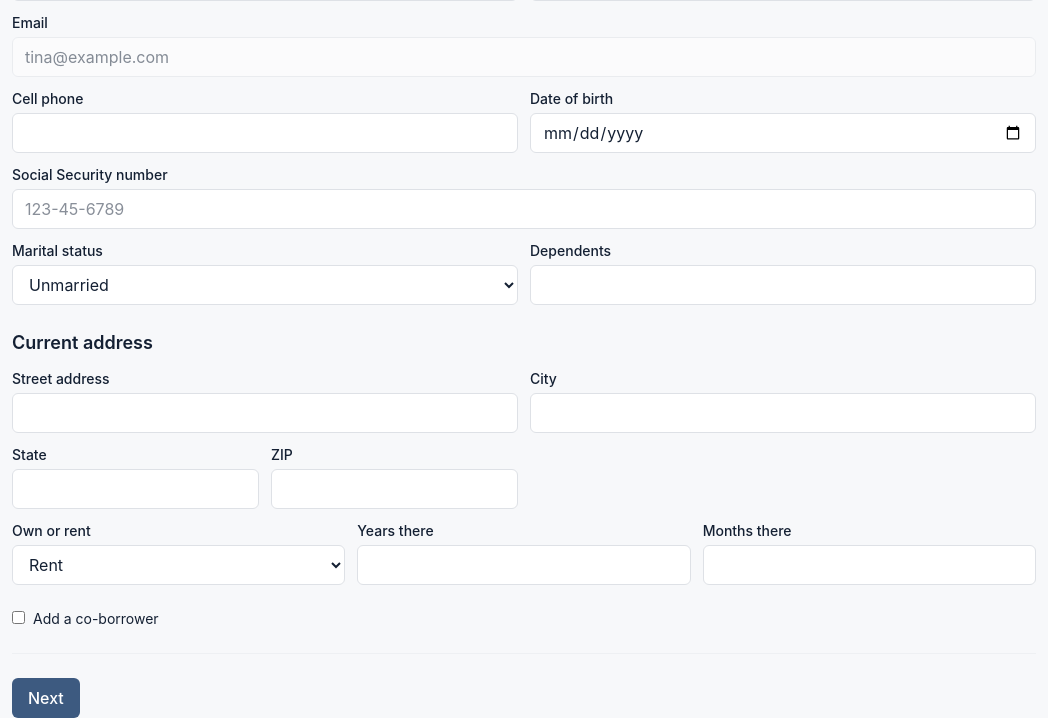
Test: ApplyWizard › Next on a valid tab advances to the next tab
The image size is (1048, 718).
(page scrolled)
Click the button "Next": (46, 698) [12,678,80,717]
(page scrolled)
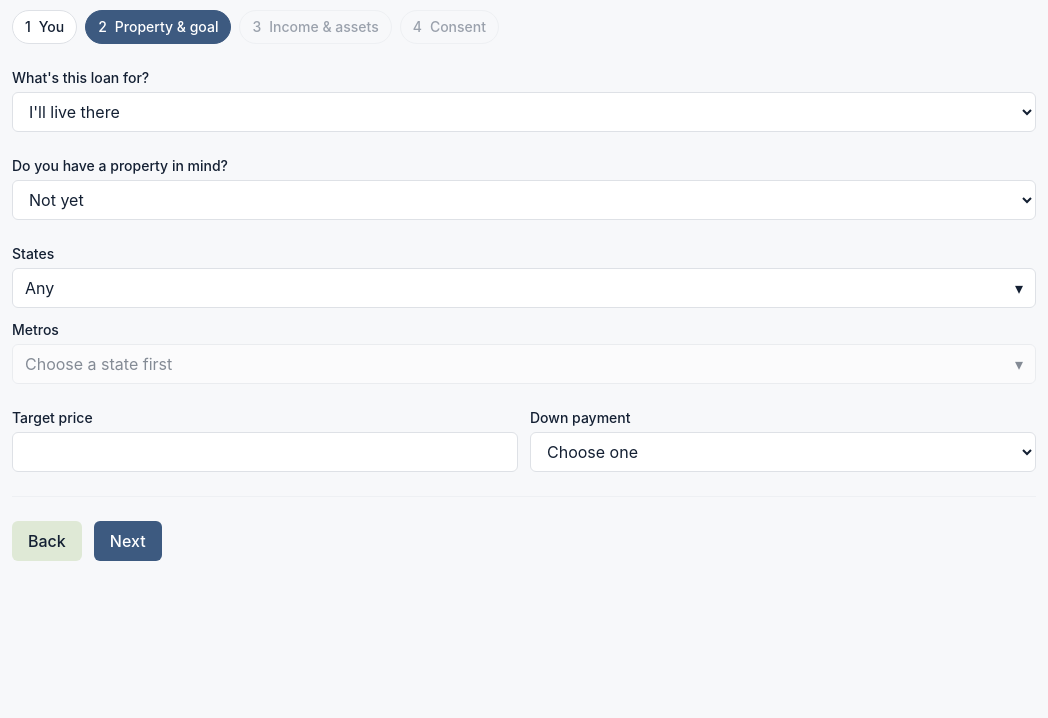
Expected: the dropdown labelled "What's this loan for?" is shown, [12,92,1036,132]
